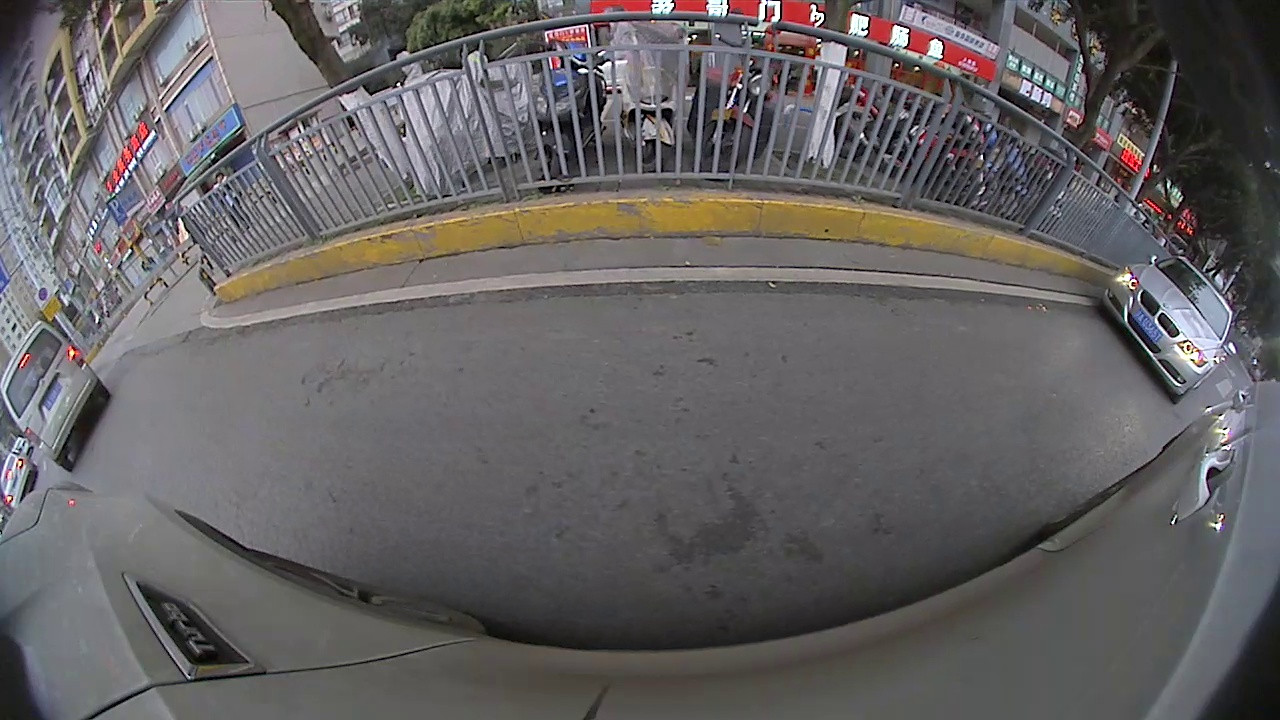car: (1094, 249, 1239, 405), (1, 315, 113, 471)
front: (691, 107, 753, 183), (626, 123, 674, 179)
rider: (833, 63, 987, 202), (688, 13, 788, 183), (596, 5, 697, 172), (527, 14, 614, 195)
